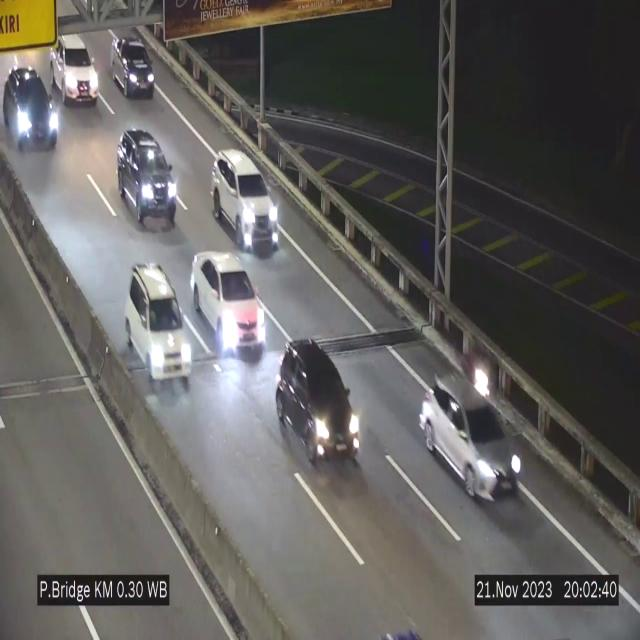Car: (424, 370, 520, 509), (274, 340, 362, 470), (190, 253, 264, 355), (126, 263, 188, 382), (212, 150, 280, 250), (119, 127, 178, 227), (4, 69, 60, 147), (51, 35, 99, 104), (110, 36, 154, 98)
Motorcycle: (463, 337, 493, 407)
